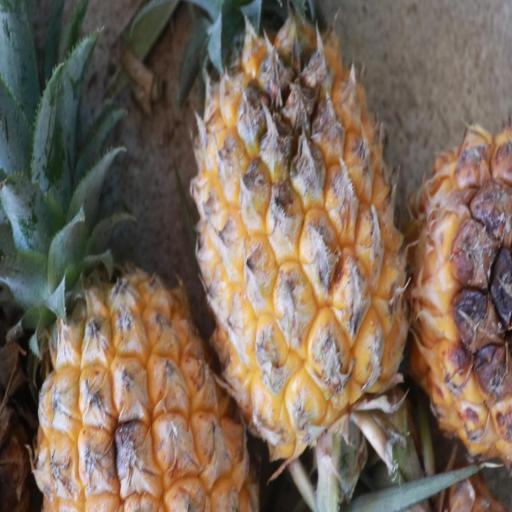Pineapple - v8 v1: (196, 2, 414, 472), (22, 100, 257, 512)
